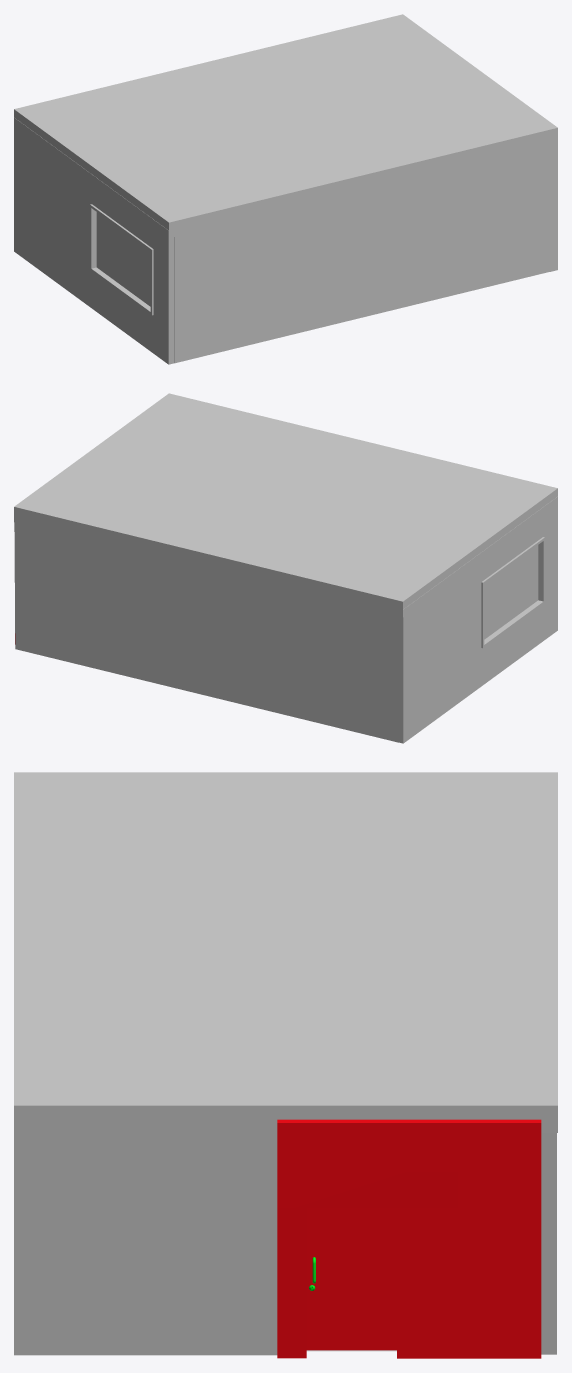
File: PatientRoom.fbx
3 renders of one model, top to bottom at view 1: azimuth 30°, elevation 25°; view 2: azimuth 150°, elevation 25°; view 3: azimuth 270°, elevation 25°, orthographic. The views are drawn at different scales.
Parts seen in each view (by area): view 1: Ceiling, LeftWall, BackWall, WindowGlass, WindowFrame, FrontWall; view 2: Ceiling, RightWall, BackWall, WindowGlass, WindowFrame; view 3: Ceiling, FrontWall, DoorFrame, Door, RightWall.
Part boxes in pixels (x1,y1,x2,y2): Ceiling: (14,14,557,237); LeftWall: (174,145,549,363); BackWall: (14,117,174,364); WindowGlass: (96,212,150,306); WindowFrame: (90,204,153,315); FrontWall: (550,143,557,271); Ceiling: (14,393,557,617); RightWall: (14,522,398,742); BackWall: (395,496,557,743); WindowGlass: (484,545,538,639); WindowFrame: (481,537,544,648); Ceiling: (14,772,557,1132); FrontWall: (14,1133,277,1355); DoorFrame: (277,1119,541,1358); Door: (306,1208,396,1350); RightWall: (541,1133,556,1354).
Size of the model in its own units: 10.47 by 3.8 by 7.12.
